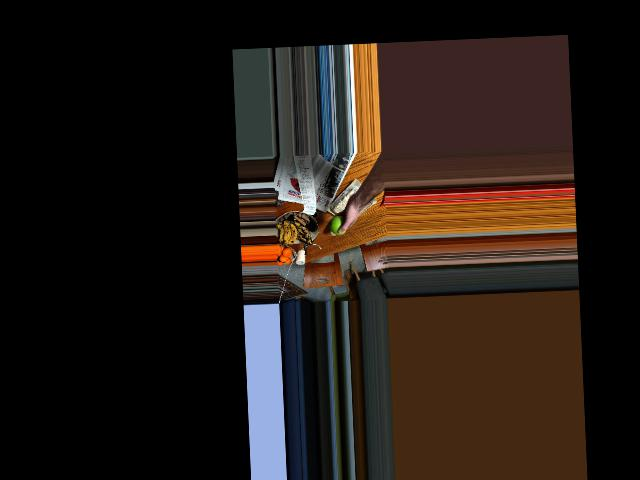apple: (329, 213, 350, 236)
